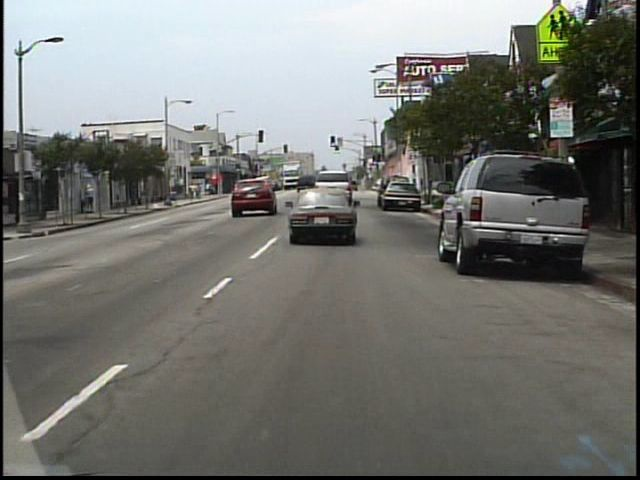person: (88, 184, 100, 214)
